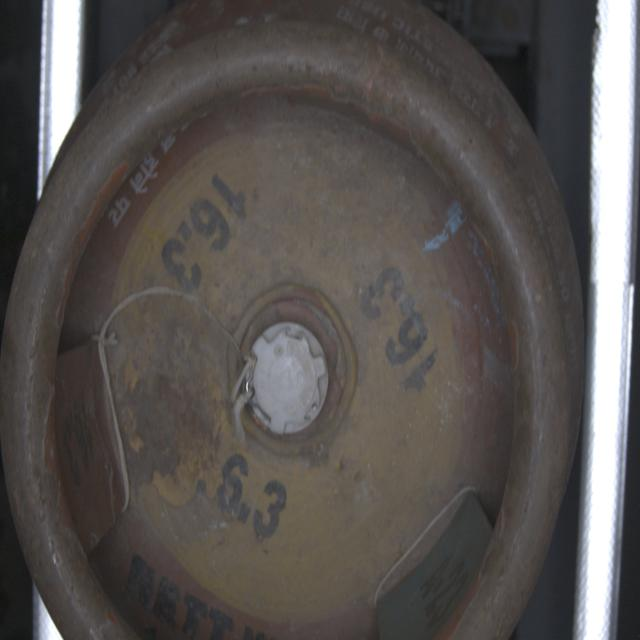Cap: (243, 317, 329, 441)
